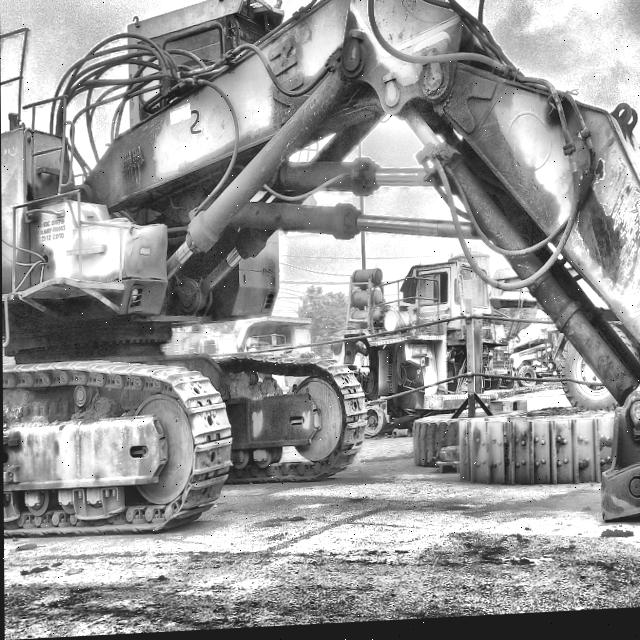excavator: (1, 0, 640, 541)
